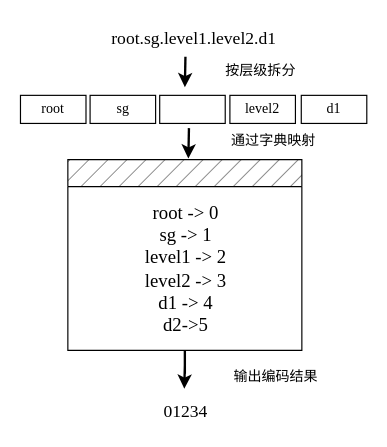
Image size: 387x447. Some labels were removed from this diagram. Here are the shapes that lost their labels. From the top down, the box of each, then its label:
(159, 94, 225, 123): level1
(67, 159, 302, 350): Dictionary
